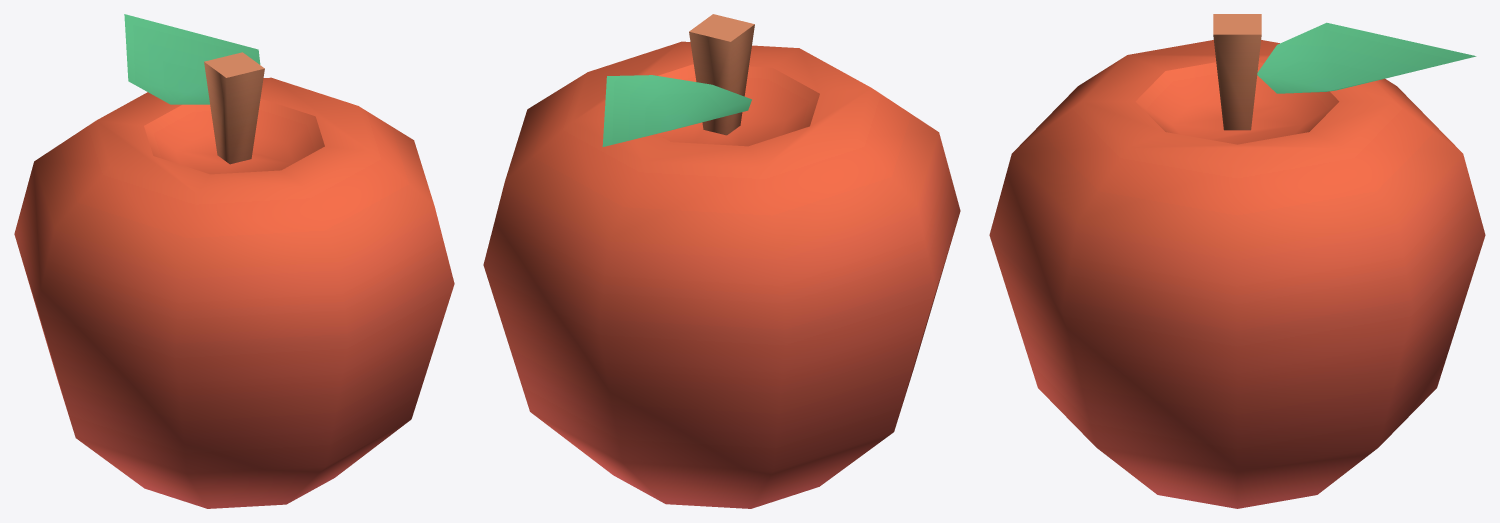
Rendered from apple.glb.
The picture shows the model from 3 angles, left to right: view 1: azimuth 30°, elevation 25°; view 2: azimuth 150°, elevation 25°; view 3: azimuth 270°, elevation 25°; orthographic projection. The views are drawn at different scales.
Parts seen in each view (by area): view 1: apple; view 2: apple; view 3: apple.
Boxes of the visible parts, x1,y1,x2,y2 form: apple: (14,14,454,508); apple: (483,14,960,508); apple: (989,14,1485,508).
Size of the model in its own units: 0.1963 by 0.1908 by 0.1963.
Materials: 1 (1 with a texture image).
